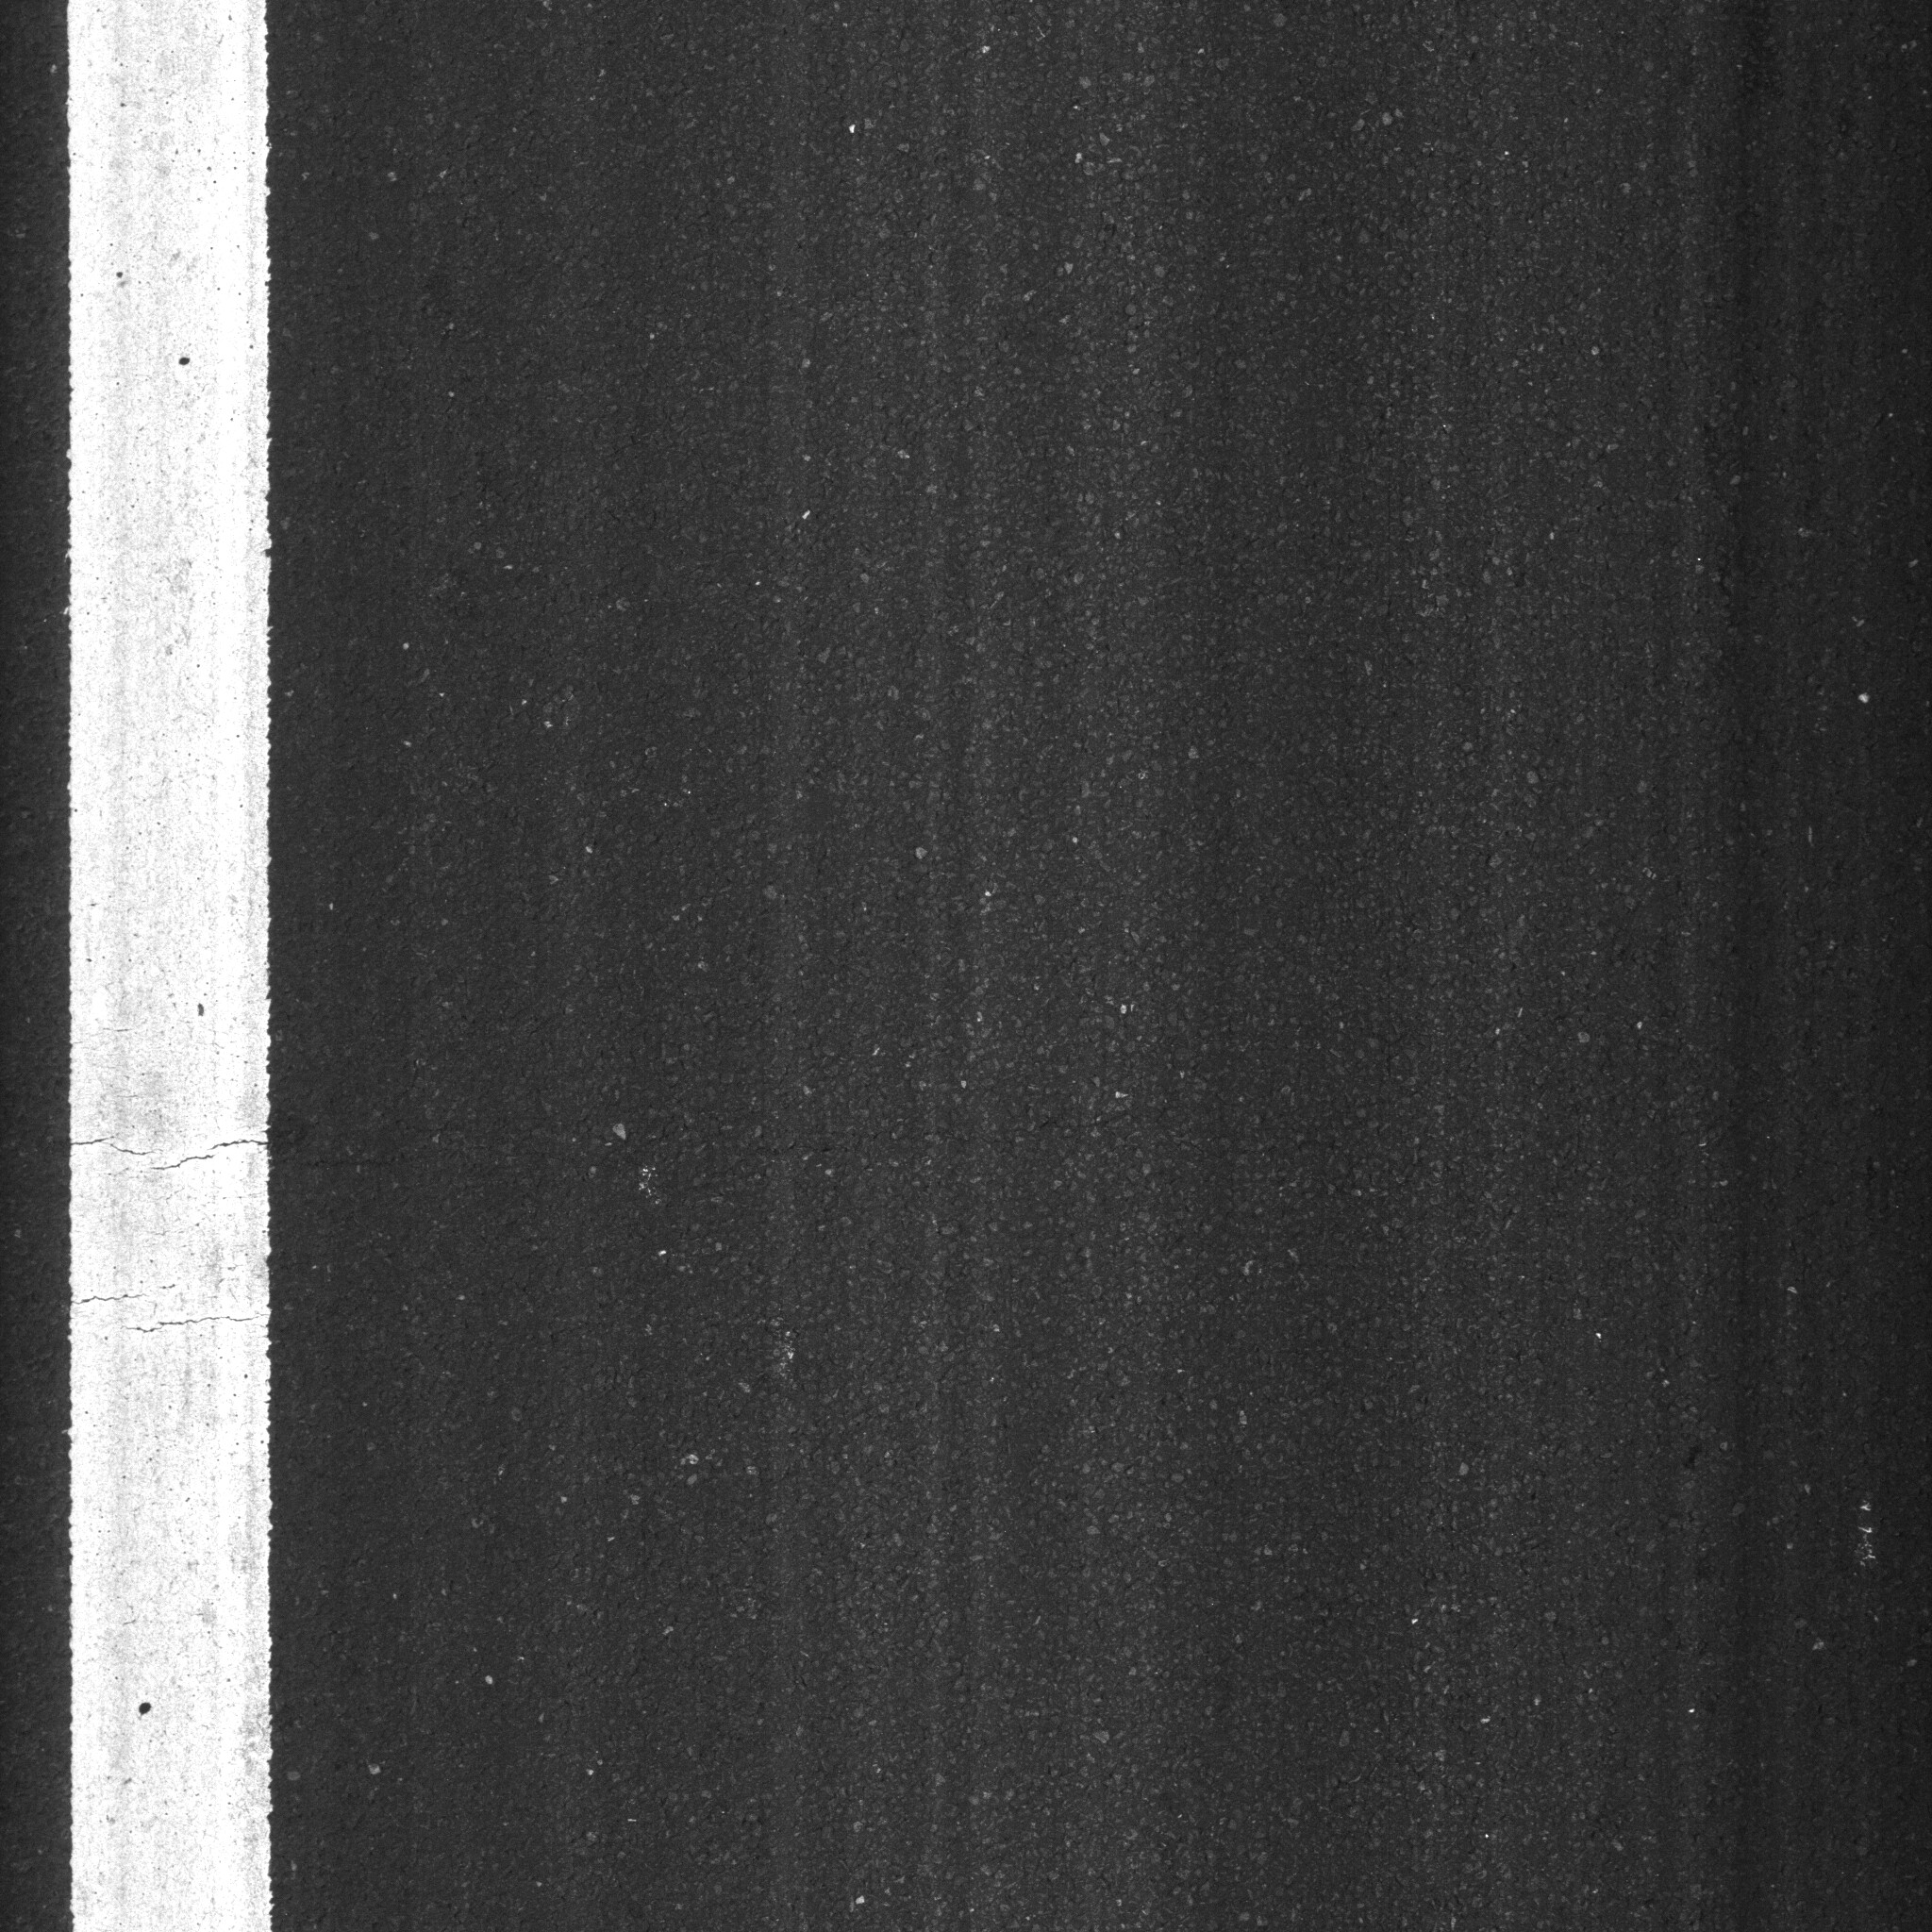transeverse: (50, 1115, 731, 1205), (48, 1276, 375, 1341)
